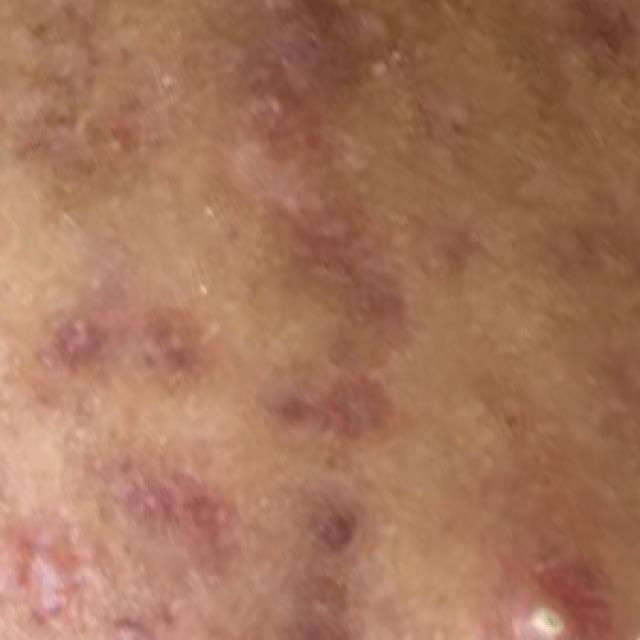acne: (0, 452, 239, 638), (0, 0, 181, 215), (234, 0, 456, 151), (14, 296, 200, 399), (241, 358, 433, 448), (456, 546, 632, 638), (282, 497, 388, 638)
